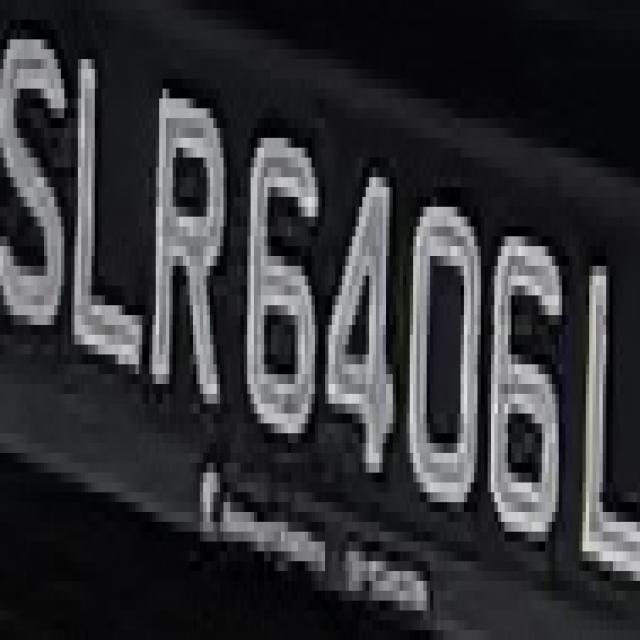0: (406, 168, 481, 542)
4: (322, 128, 406, 502)
6: (488, 187, 572, 571), (227, 108, 318, 453)
L: (71, 29, 146, 394), (579, 197, 633, 601)
R: (146, 59, 234, 433)
S: (13, 19, 68, 344)
